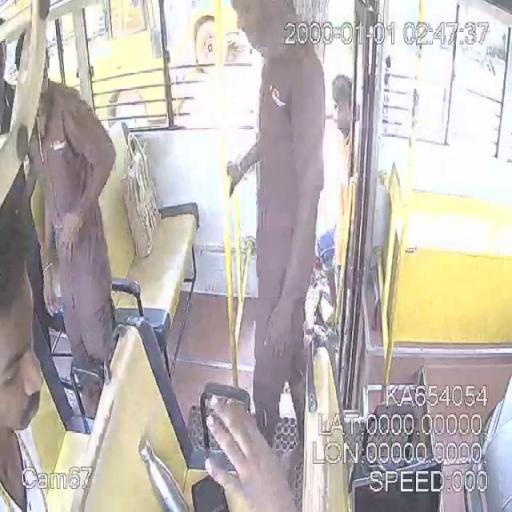persona: (0, 16, 118, 422), (225, 2, 327, 456), (328, 73, 361, 327)
